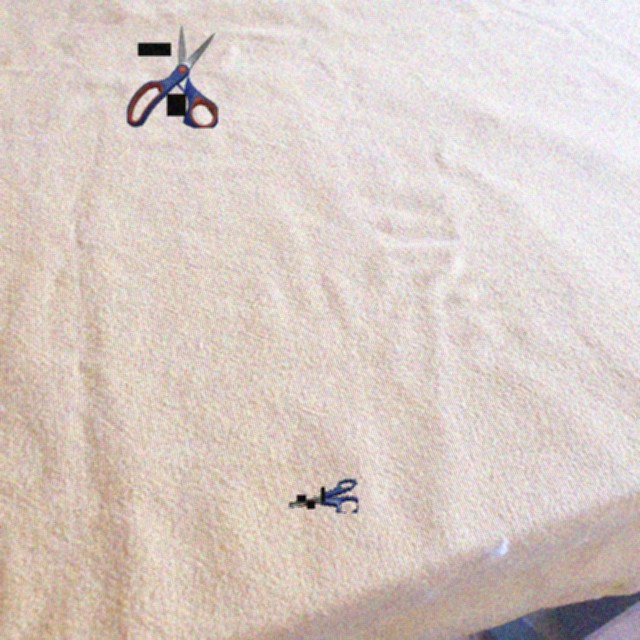scissors: (127, 25, 218, 128), (289, 478, 358, 513)
